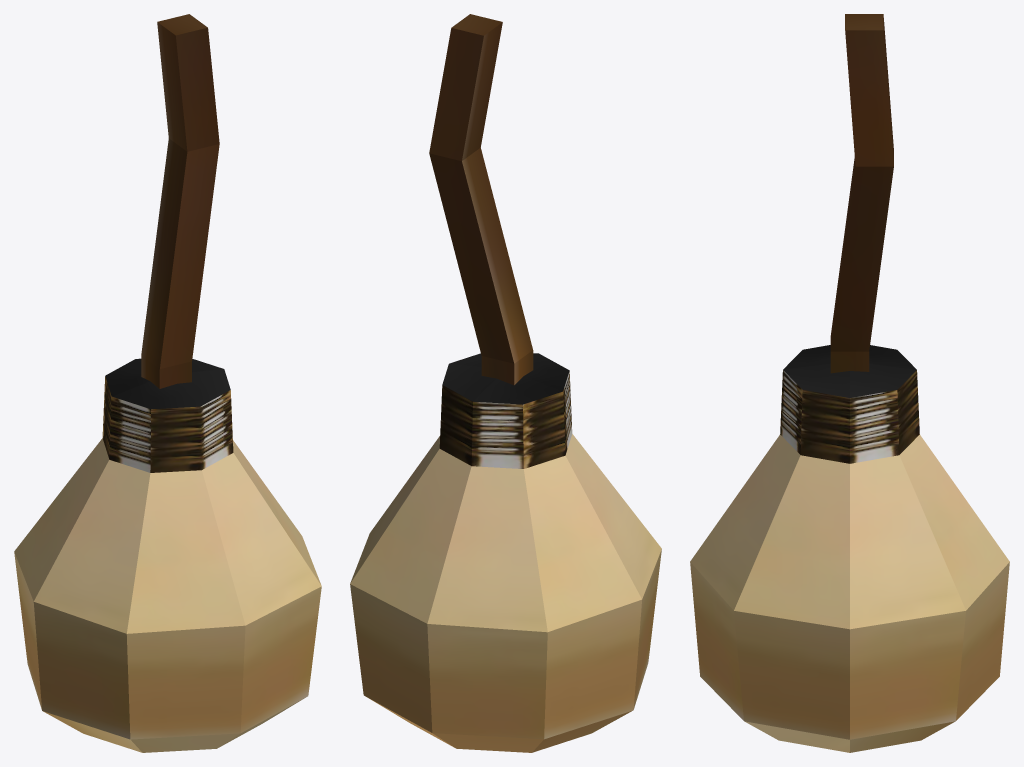
The model's file is LightBulb.fbx.
3 renders of one model, left to right at view 1: azimuth 30°, elevation 25°; view 2: azimuth 150°, elevation 25°; view 3: azimuth 270°, elevation 25°, orthographic. The views are drawn at different scales.
Visible parts, largest first — view 1: roof_light; view 2: roof_light; view 3: roof_light.
Boxes of the visible parts, <box> form: roof_light: <box>14,14,321,752</box>; roof_light: <box>350,14,661,752</box>; roof_light: <box>690,14,1009,752</box>.
Bounding box in the file's own units: 0.3441 × 0.3441 × 0.8523.
